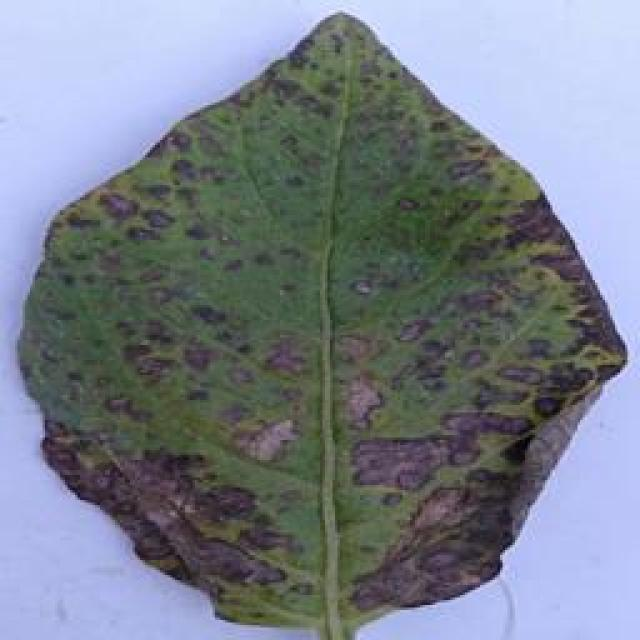Potato_Early_Blight: (15, 11, 626, 633)
